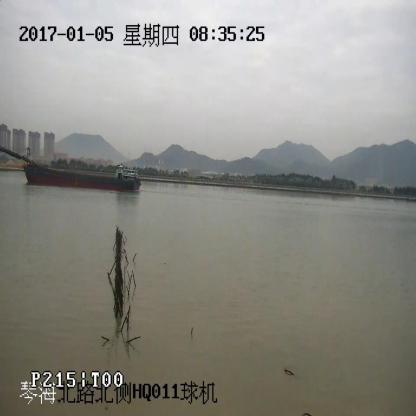Bulk Carrier: (0, 147, 142, 190)
